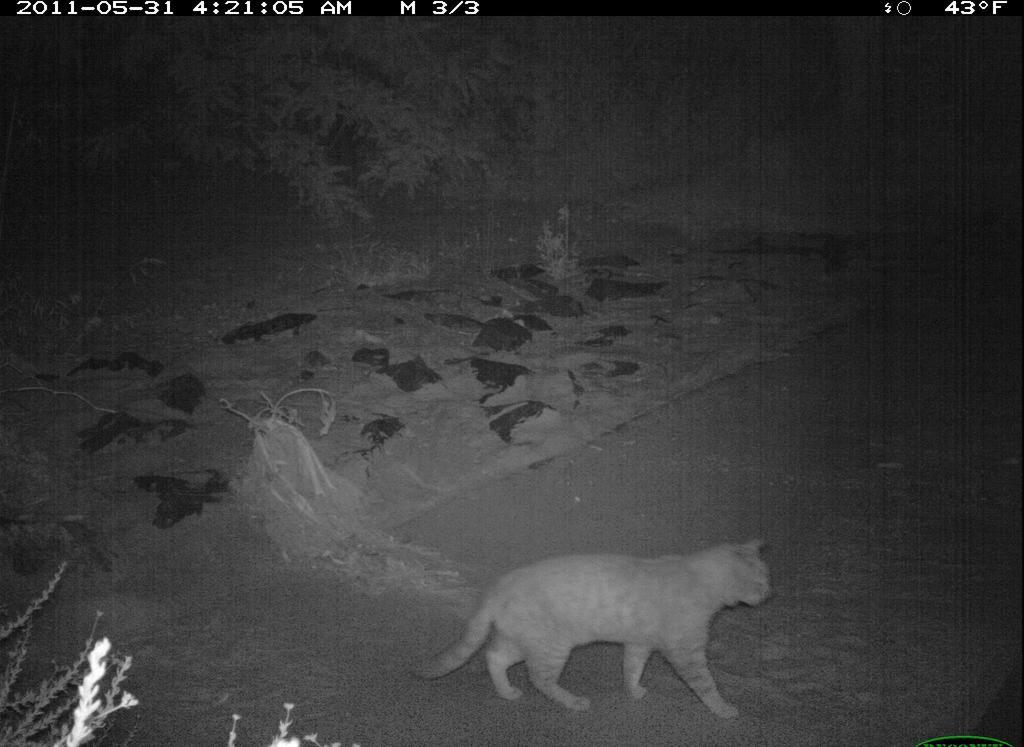cat: (386, 519, 793, 722)
